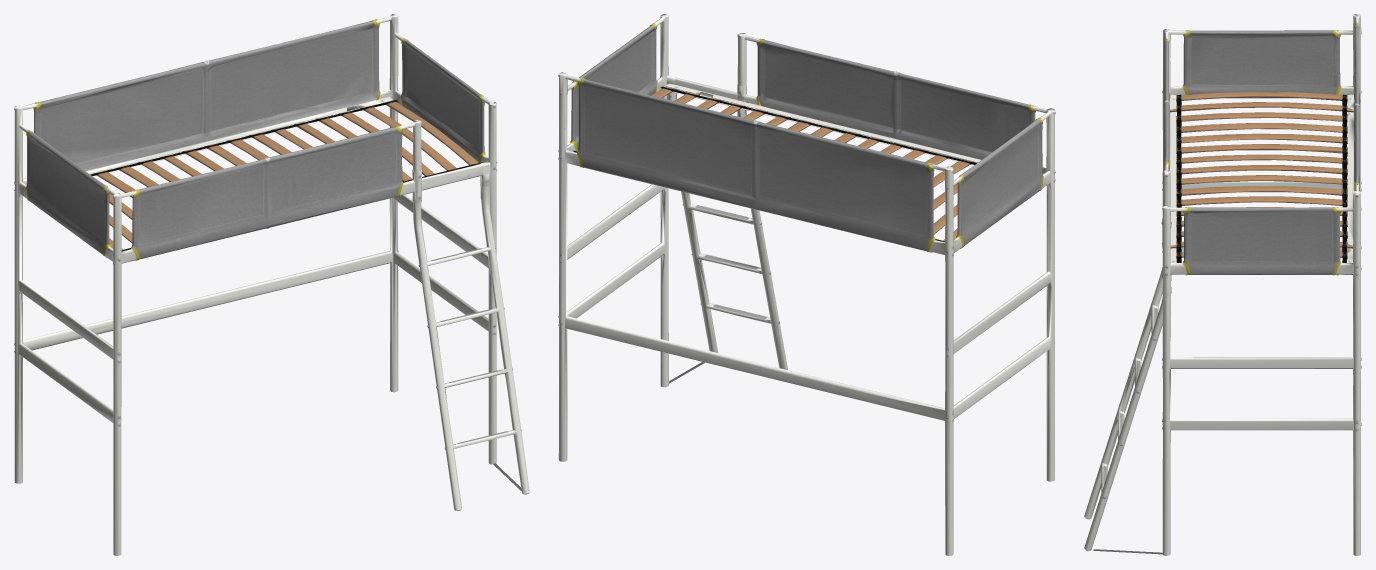
The model's file is vitval_rama_ozka_na_antresoli_10411242.glb.
3 renders of one model, left to right at view 1: azimuth 30°, elevation 25°; view 2: azimuth 150°, elevation 25°; view 3: azimuth 270°, elevation 25°, orthographic. The views are drawn at different scales.
Parts seen in each view (by area): view 1: vitval_rama_ozka_na_antresoli_10411242; view 2: vitval_rama_ozka_na_antresoli_10411242; view 3: vitval_rama_ozka_na_antresoli_10411242.
Boxes of the visible parts, bbox=[...] form: vitval_rama_ozka_na_antresoli_10411242: bbox=[14, 14, 529, 555]; vitval_rama_ozka_na_antresoli_10411242: bbox=[558, 14, 1055, 555]; vitval_rama_ozka_na_antresoli_10411242: bbox=[1084, 14, 1361, 555].
Bounding box in the file's own units: 2.08 × 1.94 × 1.35.
1 material, 1 textured.
